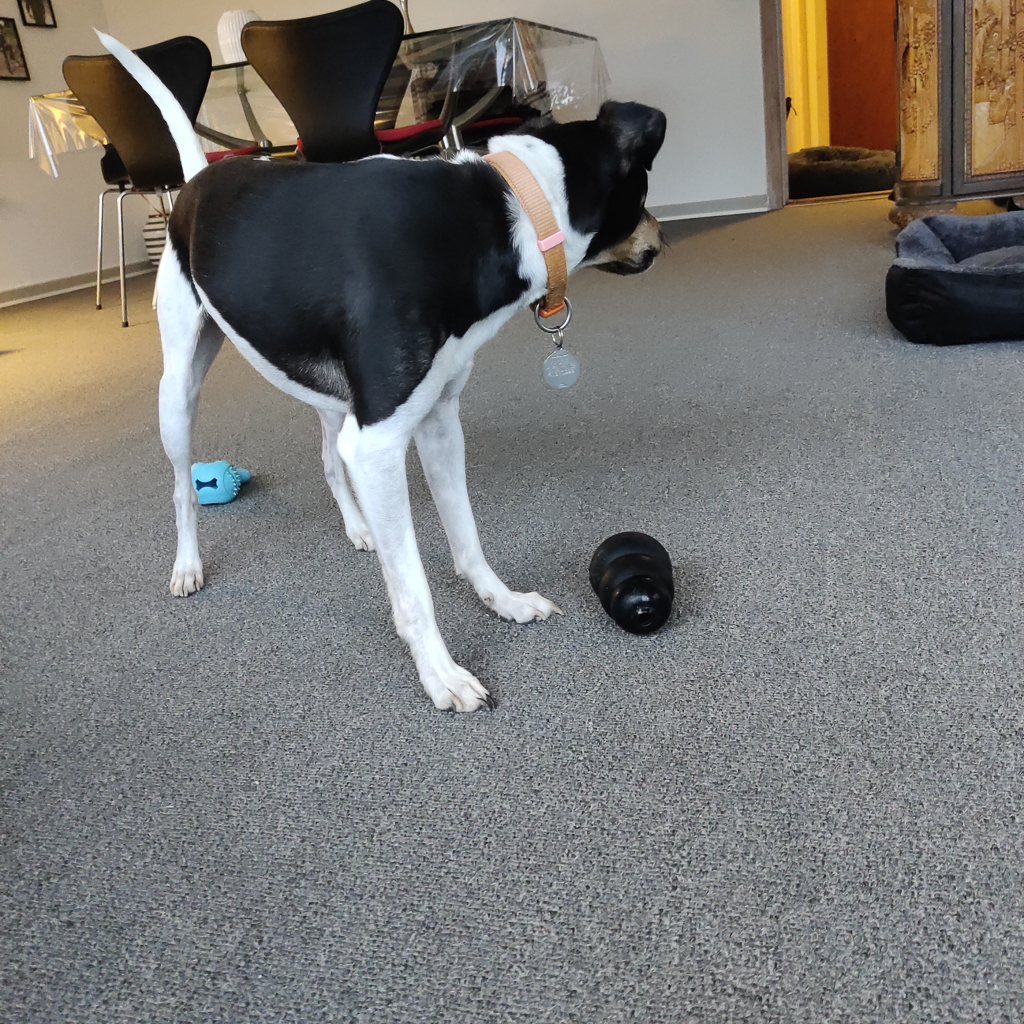Dog: (77, 18, 694, 731)
